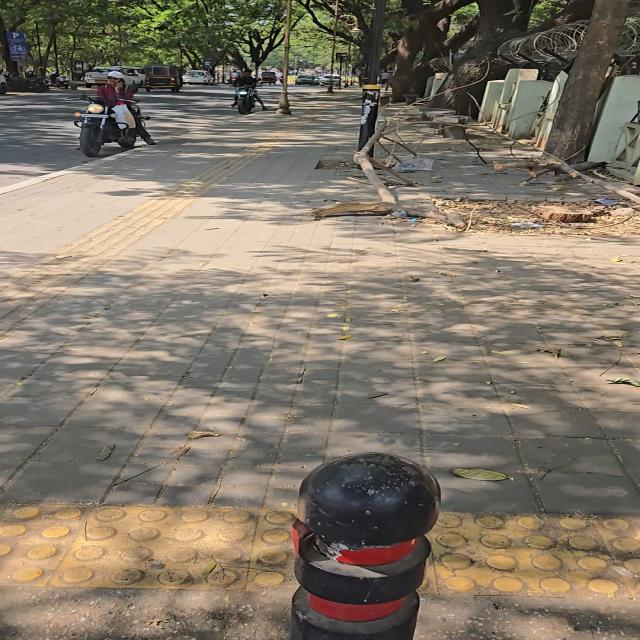obstacle: (291, 453, 439, 639)
